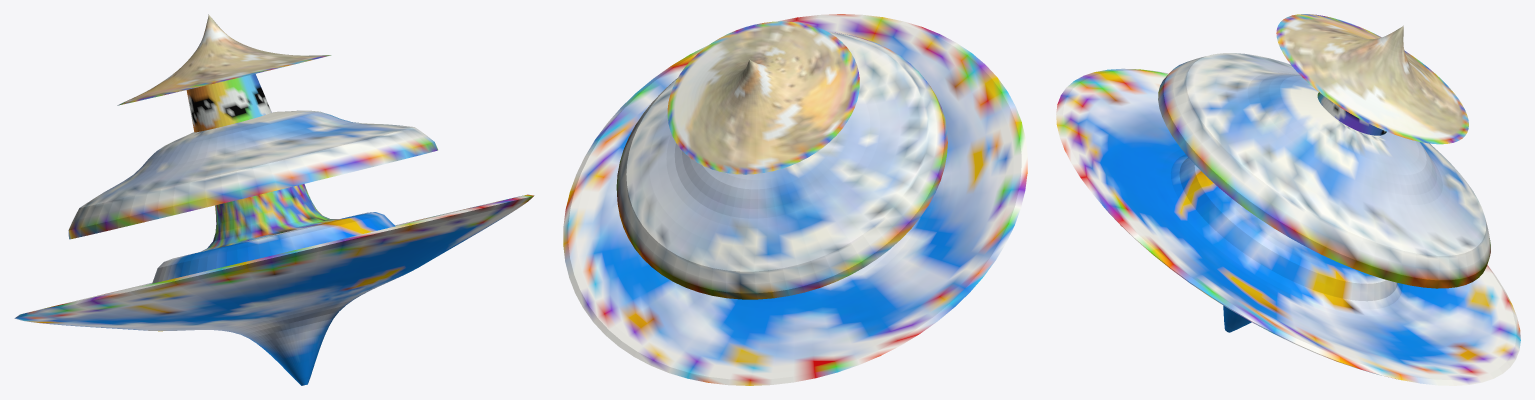
Rendered from april28outdoorpagoda3.glb.
3 renders of one model, left to right at view 1: azimuth 30°, elevation 25°; view 2: azimuth 150°, elevation 25°; view 3: azimuth 270°, elevation 25°, orthographic. The views are drawn at different scales.
Visible parts, largest first — view 1: Lathe 4, Lathe 3, Lathe, Lathe.001; view 2: Lathe 4, Lathe 3, Lathe; view 3: Lathe 4, Lathe 3, Lathe, Lathe.001.
Boxes of the visible parts, <box> form: Lathe 4: <box>14,184,534,385</box>; Lathe 3: <box>68,110,437,239</box>; Lathe: <box>117,14,331,105</box>; Lathe.001: <box>186,74,271,132</box>; Lathe 4: <box>563,14,1027,385</box>; Lathe 3: <box>616,32,947,299</box>; Lathe: <box>667,21,859,174</box>; Lathe 4: <box>1056,68,1520,385</box>; Lathe 3: <box>1158,53,1490,288</box>; Lathe: <box>1276,14,1468,144</box>; Lathe.001: <box>1317,92,1386,135</box>.
Size of the model in its own units: 3.74 by 2.44 by 3.31.
